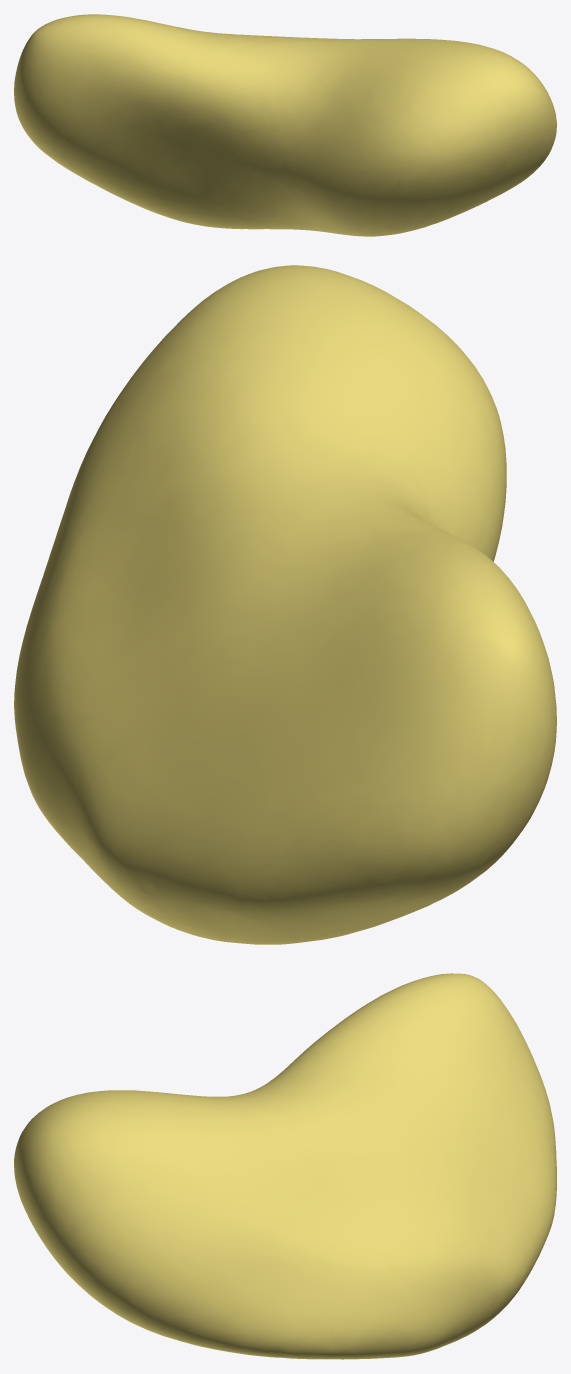
File: biventral-lobule-l.glb
3 renders of one model, top to bottom at view 1: azimuth 30°, elevation 25°; view 2: azimuth 150°, elevation 25°; view 3: azimuth 270°, elevation 25°, orthographic. The views are drawn at different scales.
Visible parts, largest first — view 1: Biventral lobule.l; view 2: Biventral lobule.l; view 3: Biventral lobule.l.
Boxes of the visible parts, x1=… form: Biventral lobule.l: x1=14, y1=14, x2=556, y2=236; Biventral lobule.l: x1=14, y1=265, x2=556, y2=944; Biventral lobule.l: x1=14, y1=973, x2=556, y2=1359.
Bounding box in the file's own units: 0.0345 × 0.02 × 0.0355.
